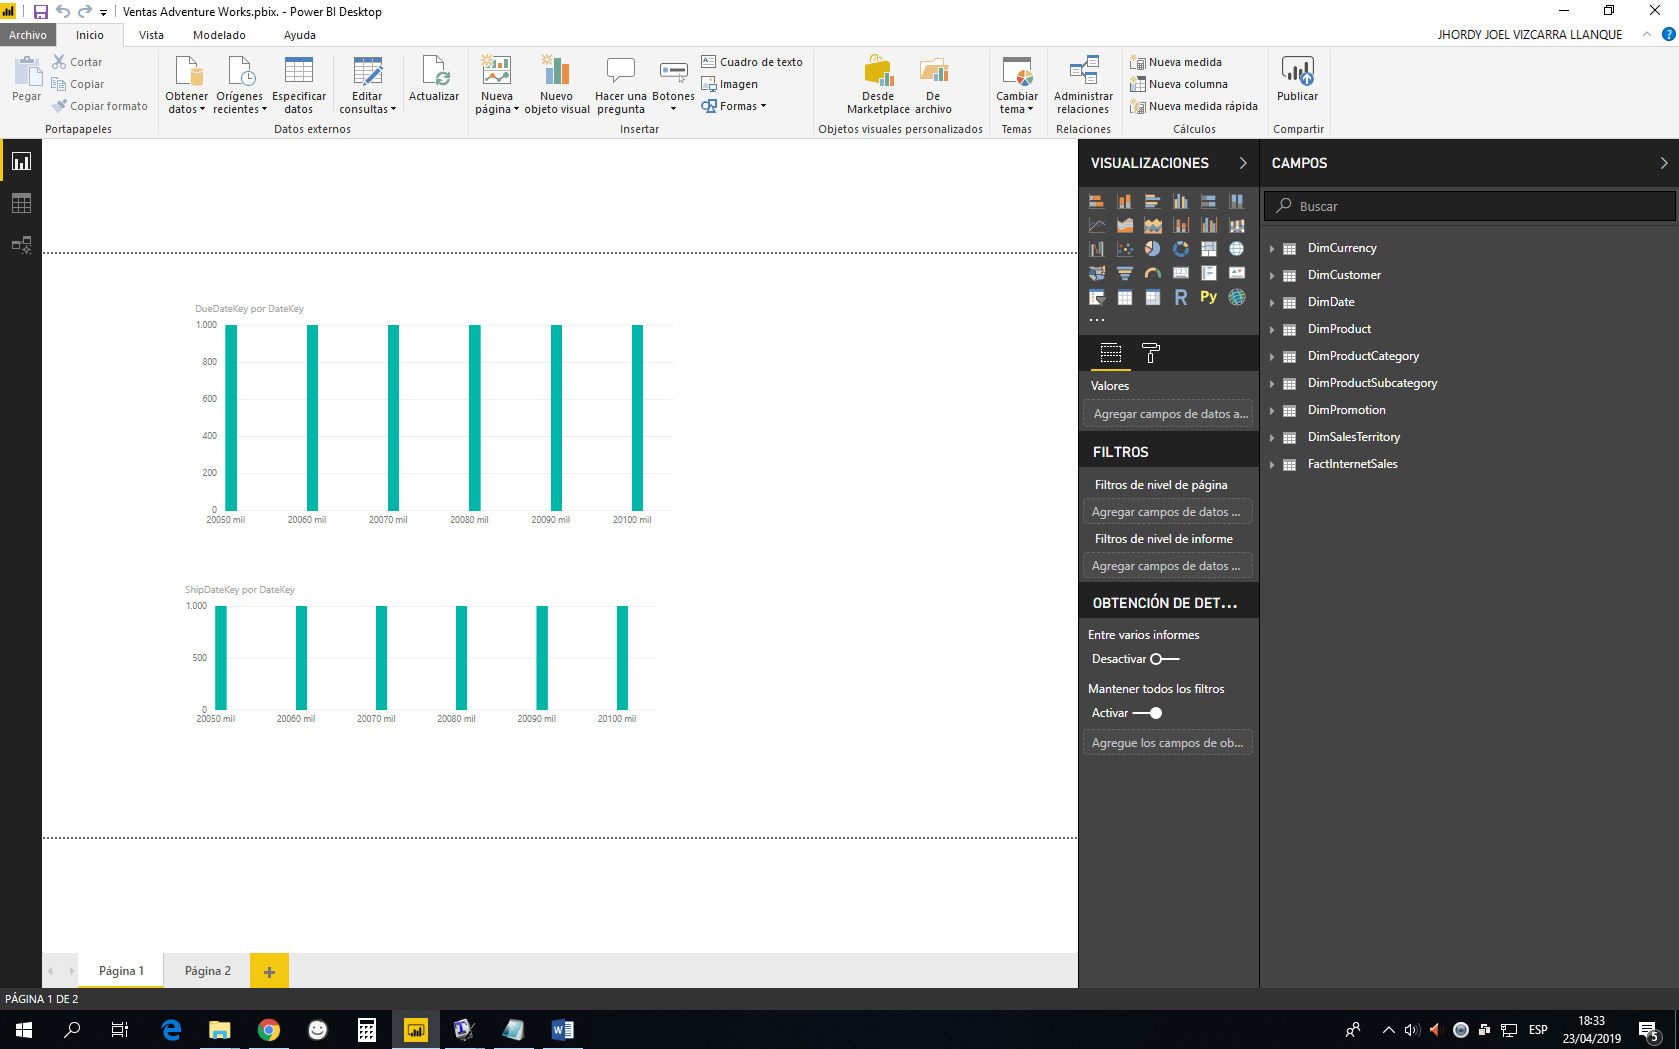

This screenshot's page, from the dashboard's own definition file:
{"tool":"powerbi","page":{"name":"Página 1","canvas":[1280,720],"ordinal":0},"visuals":[{"type":"clusteredColumnChart","fields":{"Y":["CountNonNull(FactInternetSales.DueDateKey)"],"Category":["DimDate.DateKey"]},"box":[183.6,58.2,626,287.9],"z":1},{"type":"clusteredColumnChart","fields":{"Y":["CountNonNull(FactInternetSales.ShipDateKey)"],"Category":["DimDate.DateKey"]},"box":[171.5,405.3,618.9,186.6],"z":2}]}

Visuals, with their boxes on the page's 1280x720 design canvas (x1, y1, x2, y2). These are canvas units, not pixel positions in the 1679x1049 screenshot, which may show the page scaled, cropped or inside an application window:
clusteredColumnChart - CountNonNull(FactInternetSales.DueDateKey) x DimDate.DateKey: <region>184, 58, 810, 346</region>
clusteredColumnChart - CountNonNull(FactInternetSales.ShipDateKey) x DimDate.DateKey: <region>172, 405, 790, 592</region>
